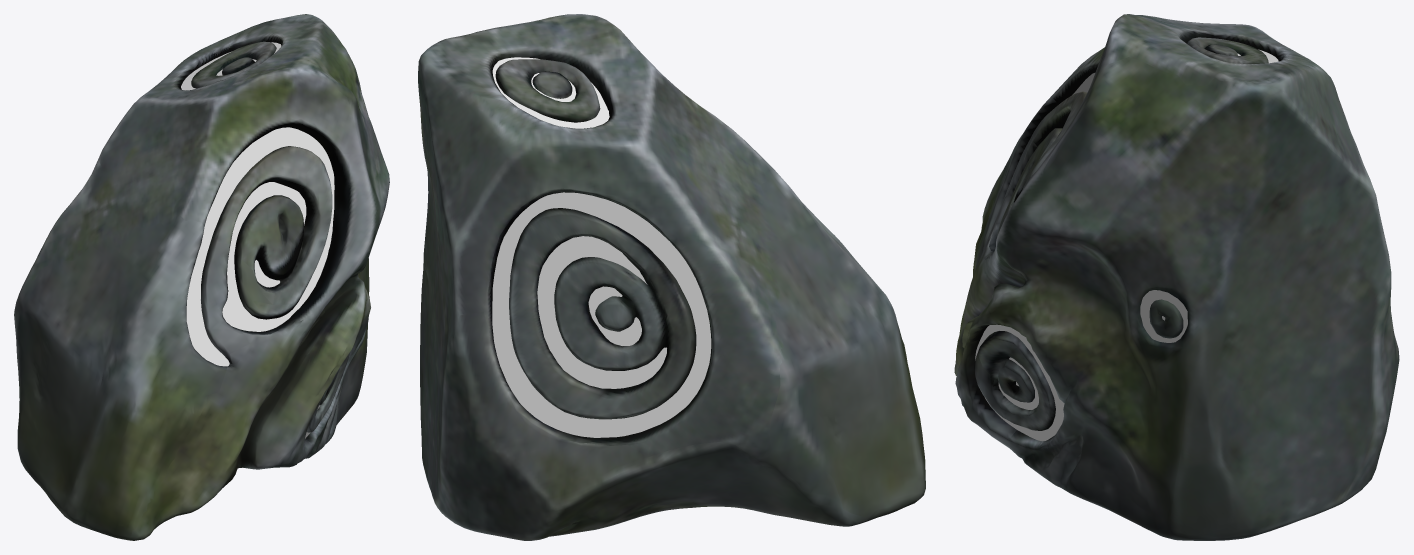
The model's file is Stone2.fbx.
3 views of the same model, side by side, from view 1: azimuth 30°, elevation 25°; view 2: azimuth 150°, elevation 25°; view 3: azimuth 270°, elevation 25° (orthographic). The views are drawn at different scales.
Visible parts, largest first — view 1: Stone2, Plane; view 2: Stone2, Plane.003, Plane.004; view 3: Stone2, Plane.001, Plane.002.
Part boxes in pixels (x1,y1,x2,y2): Stone2: (14,14,389,540); Plane: (186,127,334,366); Stone2: (418,14,925,540); Plane.003: (492,192,711,437); Plane.004: (492,57,609,128); Stone2: (954,14,1399,540); Plane.001: (975,324,1064,441); Plane.002: (1140,290,1187,342).
Bounding box in the file's own units: 177 × 177 × 151.
1 material, 1 textured.
